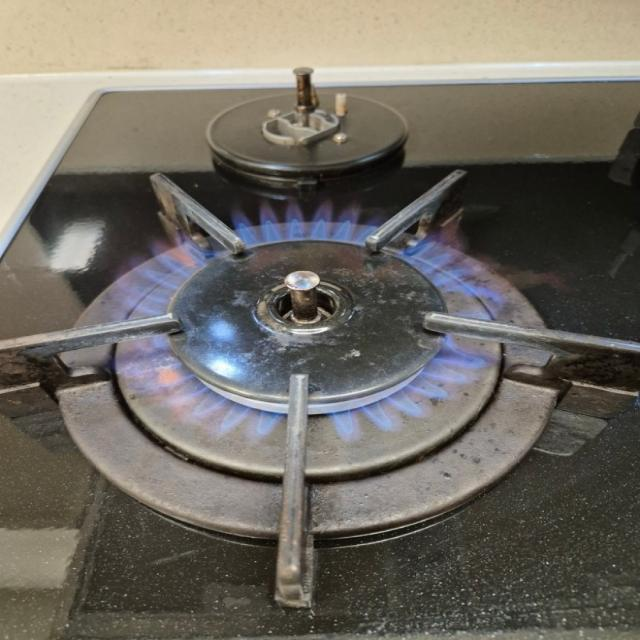knob_OFF: (86, 165, 558, 540)
